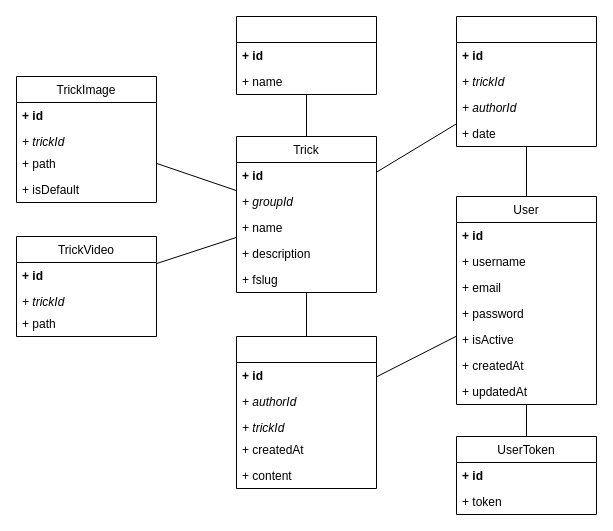
Some shapes in this 613 by 531 pixel diagram are drawn without their labels. The box of each missing label's shape, as (x1, y1, x2, y2) in pixels:
TrickComment: (236, 336, 376, 488)
TrickGroup: (236, 16, 376, 94)
TrickHistory: (456, 16, 596, 146)
